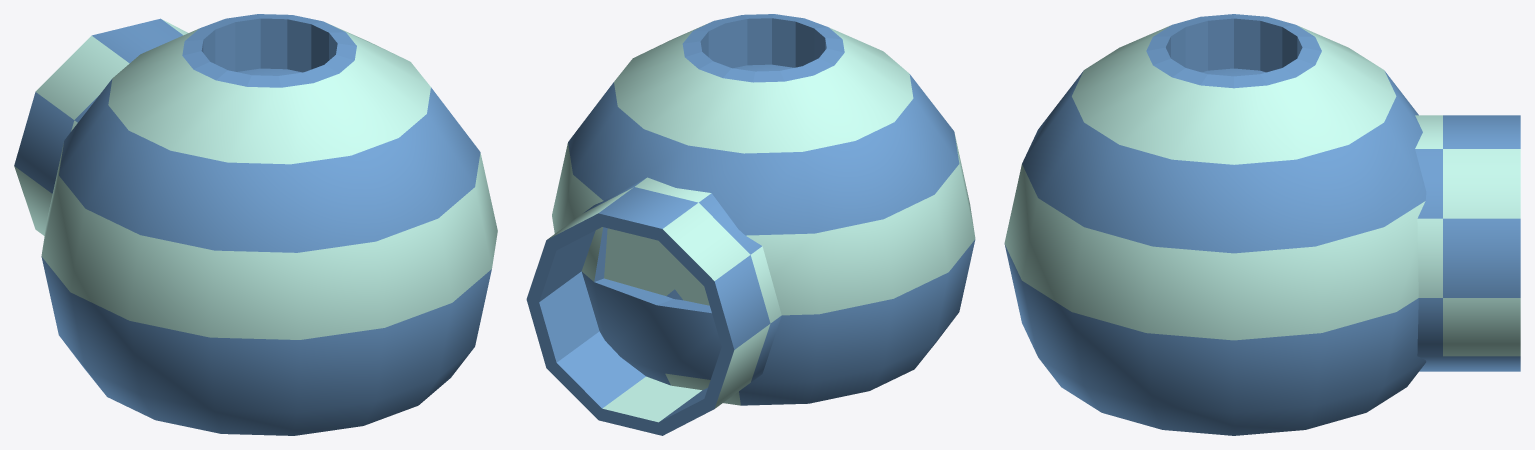
Rendered from SnowChester1.fbx.
3 renders of one model, left to right at view 1: azimuth 30°, elevation 25°; view 2: azimuth 150°, elevation 25°; view 3: azimuth 270°, elevation 25°, orthographic. The views are drawn at different scales.
Parts seen in each view (by area): view 1: Sphere005; view 2: Sphere005; view 3: Sphere005.
Boxes of the visible parts, box(x1,y1,x2,y2) form: Sphere005: box(14, 14, 497, 435); Sphere005: box(526, 14, 975, 435); Sphere005: box(1004, 14, 1520, 435).
Bounding box in the file's own units: 67.59 × 50.24 × 75.95.
2 materials, 2 textured.
